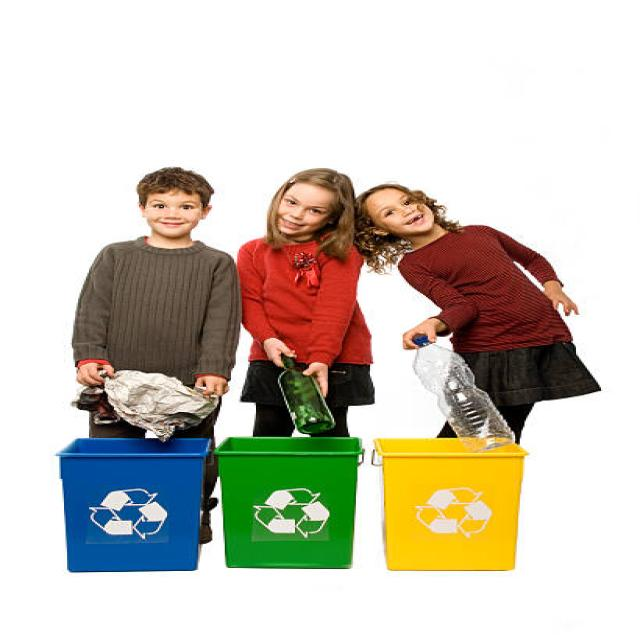glass: (270, 355, 340, 432)
paper: (94, 370, 224, 442)
plastic: (408, 334, 528, 451)
